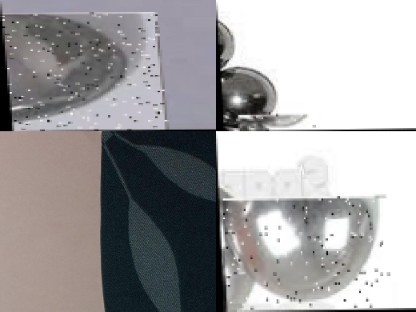ironball: (1, 12, 165, 131), (221, 196, 389, 311), (219, 63, 282, 125), (216, 8, 238, 75), (236, 114, 326, 130), (222, 117, 241, 131)
